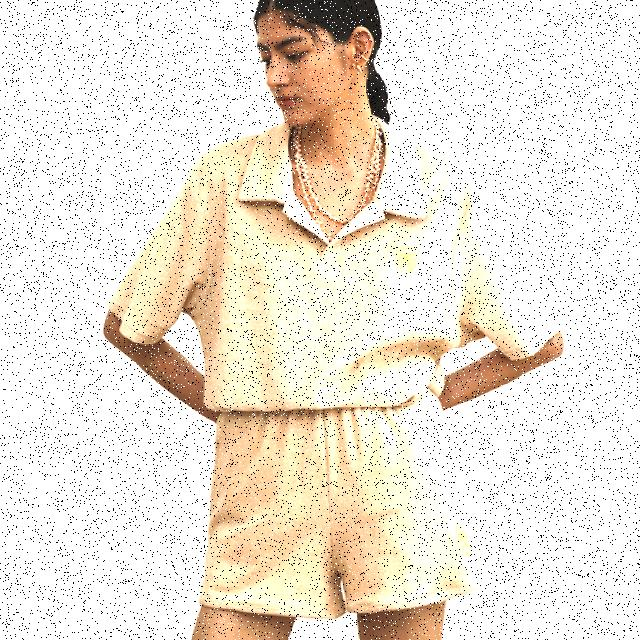dress: (195, 368, 461, 594)
